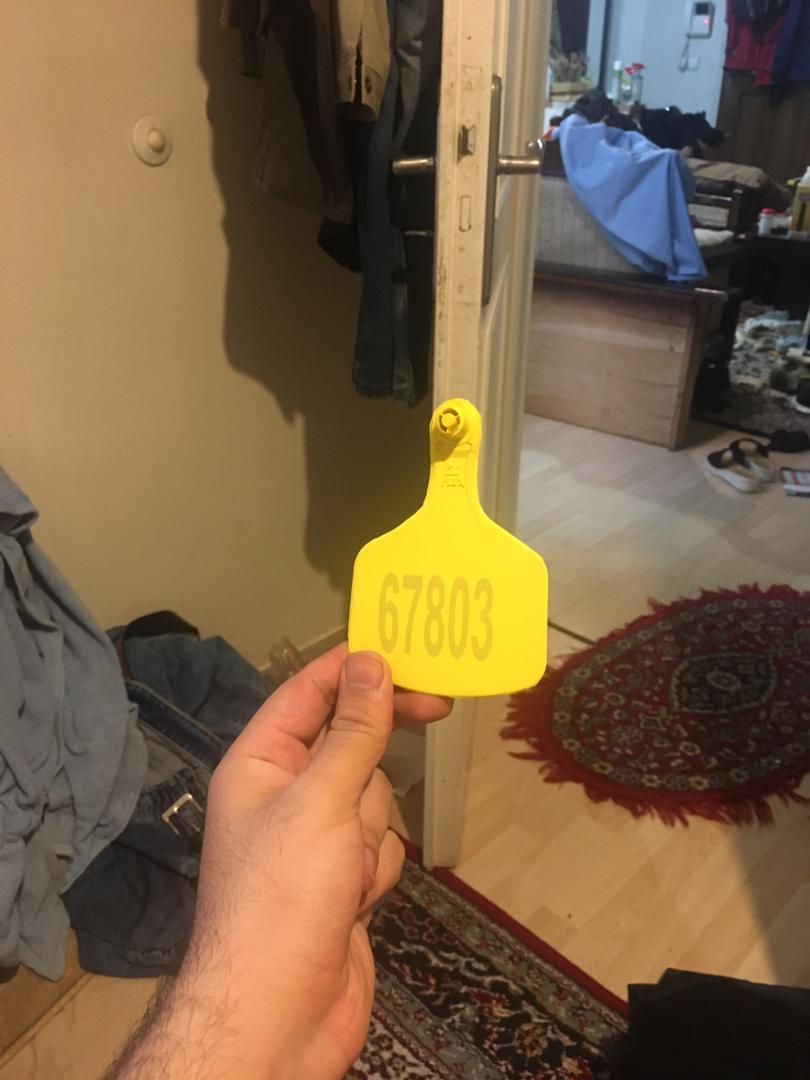digit: (374, 567, 496, 659)
